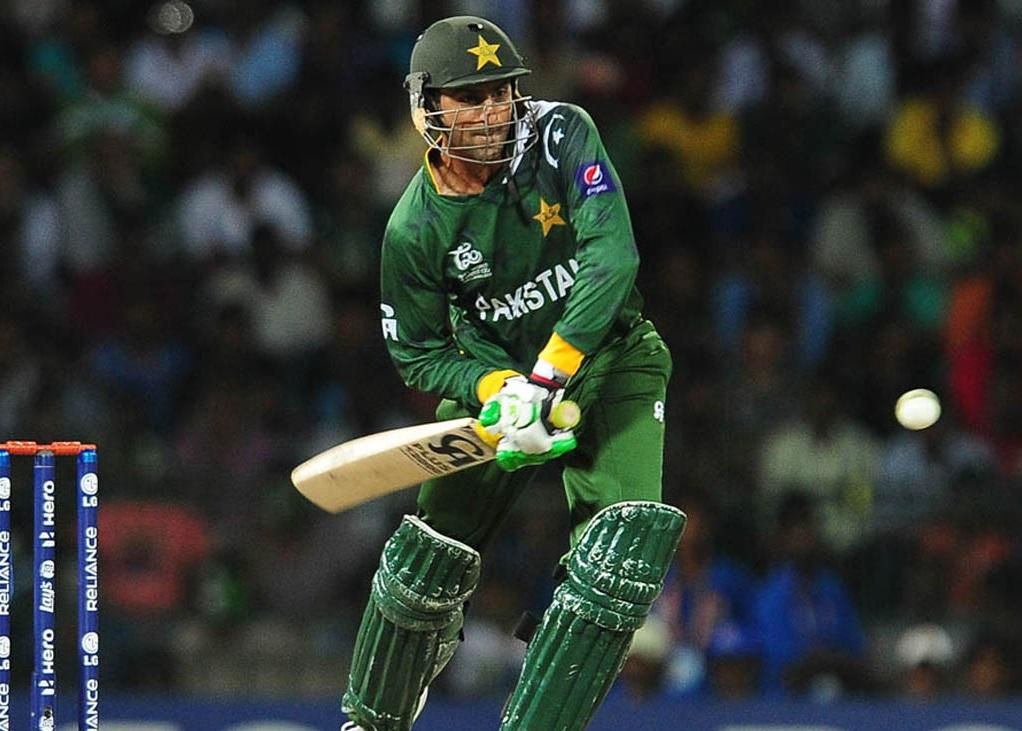batsman: (289, 10, 692, 731)
